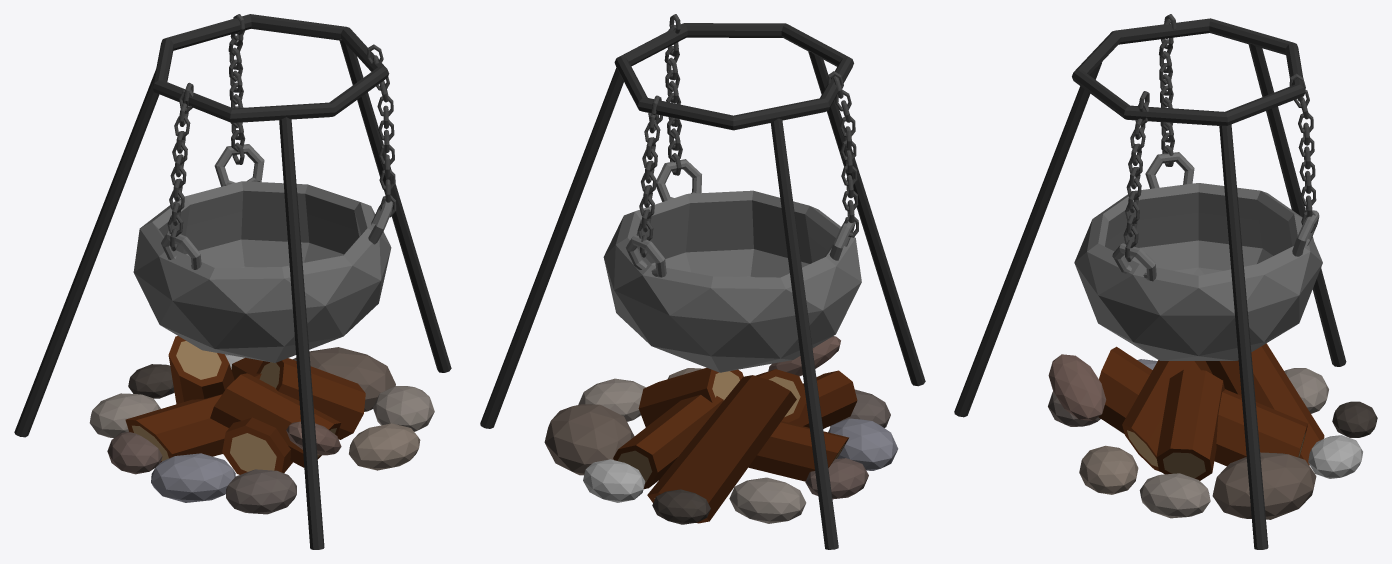
The model's file is Cauldron.fbx.
The picture shows the model from 3 angles, left to right: view 1: azimuth 30°, elevation 25°; view 2: azimuth 150°, elevation 25°; view 3: azimuth 270°, elevation 25°; orthographic projection.
Visible parts, largest first — view 1: Icosphere.010, Torus, Torus.001, Cylinder.004, Cylinder.003, Cylinder.000, Icosphere.001, Cylinder.002, Cylinder.001, Icosphere.006, Icosphere.008, Icosphere (+5 smaller); view 2: Icosphere.010, Torus, Cylinder.002, Torus.001, Icosphere.006, Cylinder.005, Cylinder.004, Cylinder.000, Icosphere.003, Icosphere.001, Icosphere.005, Cylinder.001 (+6 smaller); view 3: Icosphere.010, Torus, Cylinder.000, Torus.001, Icosphere.006, Cylinder.005, Cylinder.002, Cylinder.003, Icosphere.009, Cylinder.001, Icosphere.007, Icosphere.008 (+4 smaller).
Boxes of the visible parts, x1,y1,x2,y2 form: Icosphere.010: (133, 144, 393, 362); Torus: (14, 14, 451, 549); Torus.001: (167, 14, 396, 251); Cylinder.004: (125, 394, 228, 462); Cylinder.003: (210, 373, 340, 467); Cylinder.000: (256, 358, 365, 439); Icosphere.001: (151, 453, 235, 502); Cylinder.002: (168, 336, 234, 454); Cylinder.001: (222, 417, 292, 474); Icosphere.006: (292, 347, 395, 411); Icosphere.008: (349, 423, 420, 470); Icosphere: (226, 469, 296, 514); Icosphere.010: (603, 159, 861, 372); Torus: (480, 23, 925, 549); Cylinder.002: (647, 375, 796, 523); Torus.001: (637, 14, 858, 257); Icosphere.006: (544, 404, 634, 475); Cylinder.005: (613, 395, 723, 489); Cylinder.004: (748, 421, 848, 481); Cylinder.000: (638, 367, 743, 427); Icosphere.003: (729, 477, 806, 523); Icosphere.001: (828, 418, 898, 470); Icosphere.005: (583, 459, 645, 502); Cylinder.001: (789, 370, 857, 428); Icosphere.010: (1074, 152, 1322, 360); Torus: (954, 18, 1346, 549); Cylinder.000: (1156, 369, 1224, 480); Torus.001: (1123, 14, 1316, 261); Icosphere.006: (1212, 452, 1316, 519); Cylinder.005: (1214, 389, 1307, 466); Cylinder.002: (1206, 343, 1324, 465); Cylinder.003: (1122, 360, 1200, 471); Icosphere.009: (1048, 354, 1106, 420); Cylinder.001: (1098, 346, 1152, 433); Icosphere.007: (1139, 473, 1210, 518); Icosphere.008: (1079, 445, 1138, 494).
Bounding box in the file's own units: 195 × 206 × 183.
